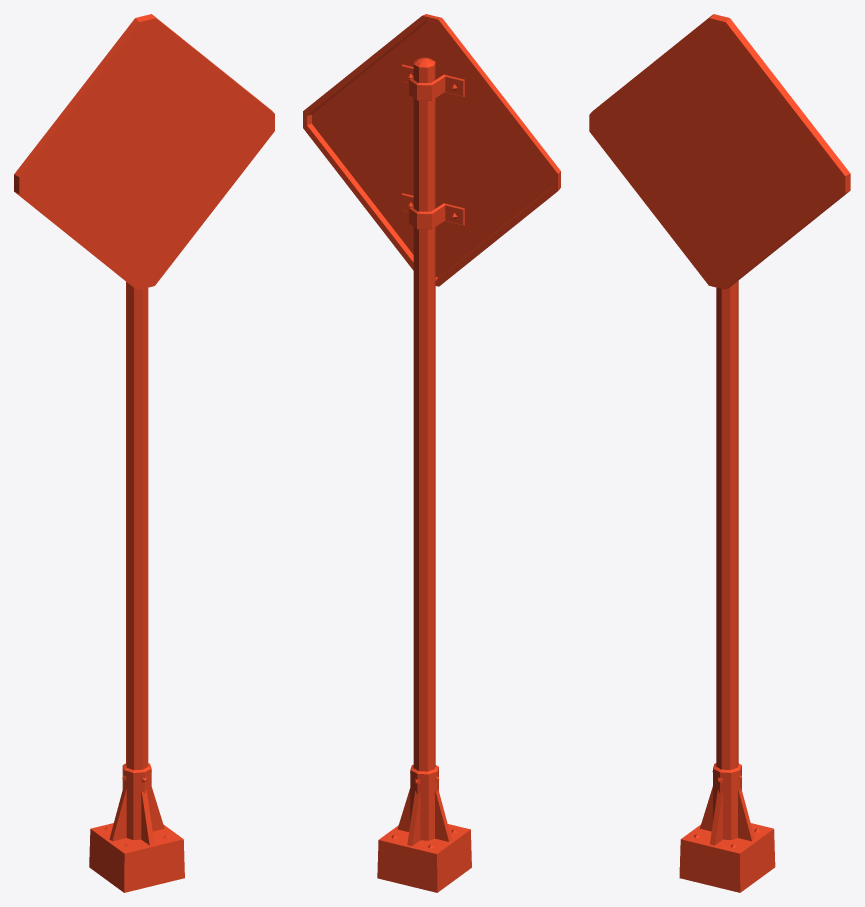
The model's file is SM_Sign_Sideroad_Angle_B_City.fbx.
The picture shows the model from 3 angles, left to right: view 1: azimuth 30°, elevation 25°; view 2: azimuth 150°, elevation 25°; view 3: azimuth 330°, elevation 25°; orthographic projection.
Parts seen in each view (by area): view 1: SM_Sign_Sideroad_Angle_B_City; view 2: SM_Sign_Sideroad_Angle_B_City; view 3: SM_Sign_Sideroad_Angle_B_City.
Part boxes in pixels (left/top/right/bottom): SM_Sign_Sideroad_Angle_B_City: left=14, top=14, right=274, bottom=892; SM_Sign_Sideroad_Angle_B_City: left=303, top=14, right=560, bottom=892; SM_Sign_Sideroad_Angle_B_City: left=589, top=14, right=850, bottom=892.
Size of the model in its own units: 0.7813 by 2.49 by 0.1839.
